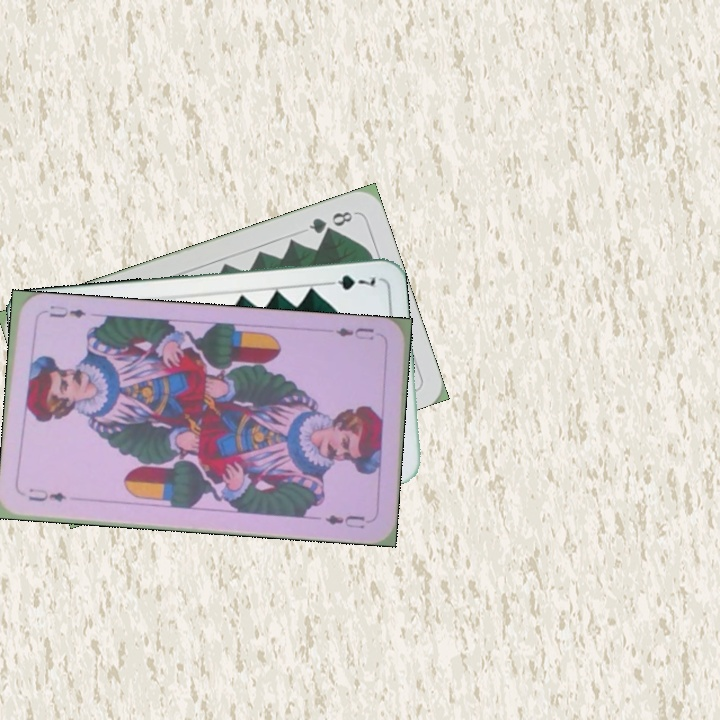EU: (331, 323, 384, 343), (24, 485, 69, 505)
G7: (320, 270, 380, 293)
G8: (305, 207, 358, 237)
